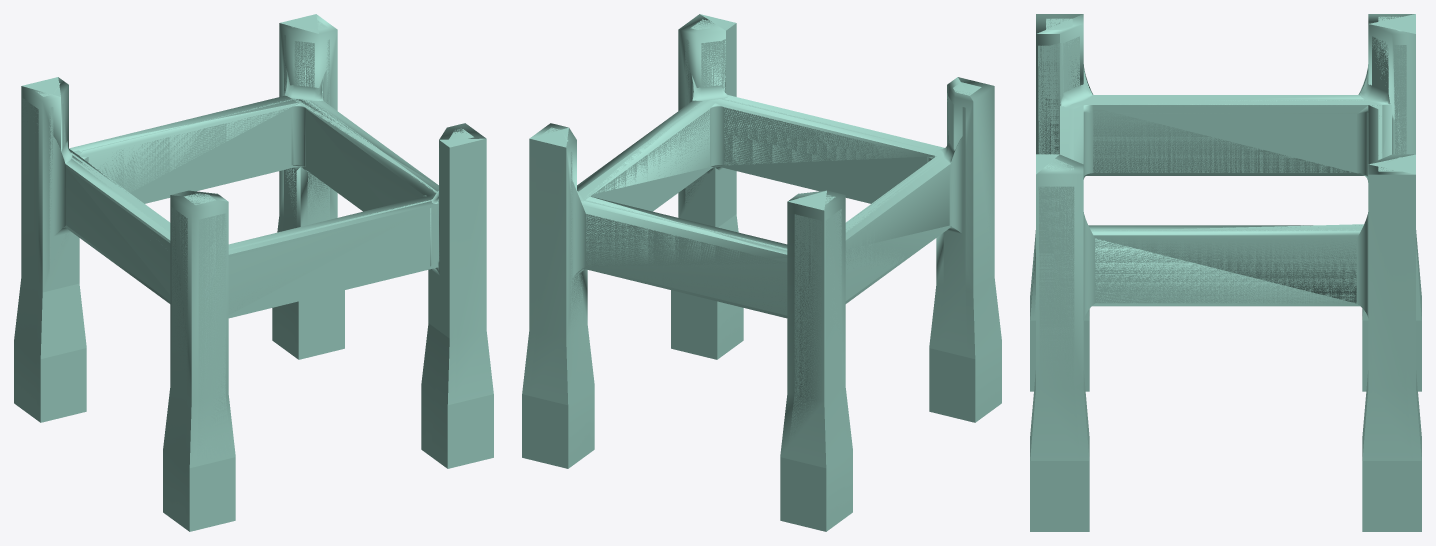
The model's file is space-kit__supports_low.glb.
3 views of the same model, side by side, from view 1: azimuth 30°, elevation 25°; view 2: azimuth 150°, elevation 25°; view 3: azimuth 270°, elevation 25° (orthographic). The views are drawn at different scales.
Parts seen in each view (by area): view 1: L0_accent, L1_accent; view 2: L1_accent, L0_accent; view 3: L0_accent, L1_accent.
Boxes of the visible parts, x1,y1,x2,y2 form: L0_accent: (16,19,490,520); L1_accent: (14,14,493,531); L1_accent: (522,14,1001,531); L0_accent: (529,19,997,521); L0_accent: (1030,16,1421,521); L1_accent: (1030,14,1421,531).
Bounding box in the file's own units: 1 × 1 × 1.
